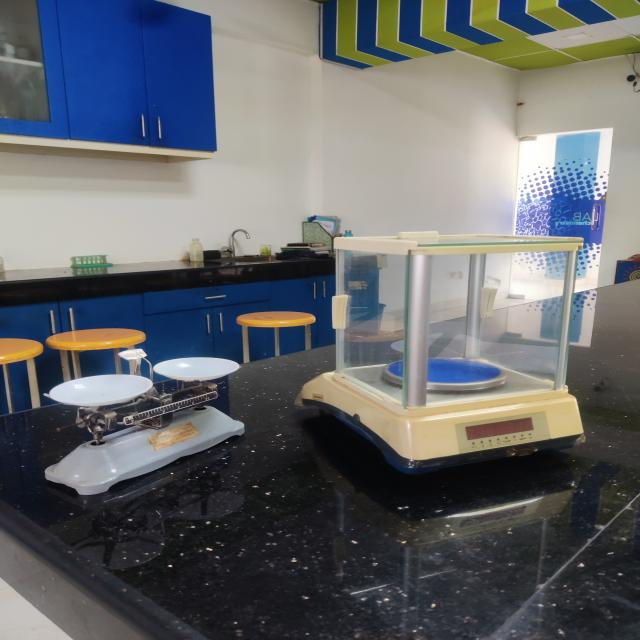Mechanical_Balance_Scale: (26, 333, 266, 517)
Precision_Weight_Scale: (280, 204, 632, 496)
